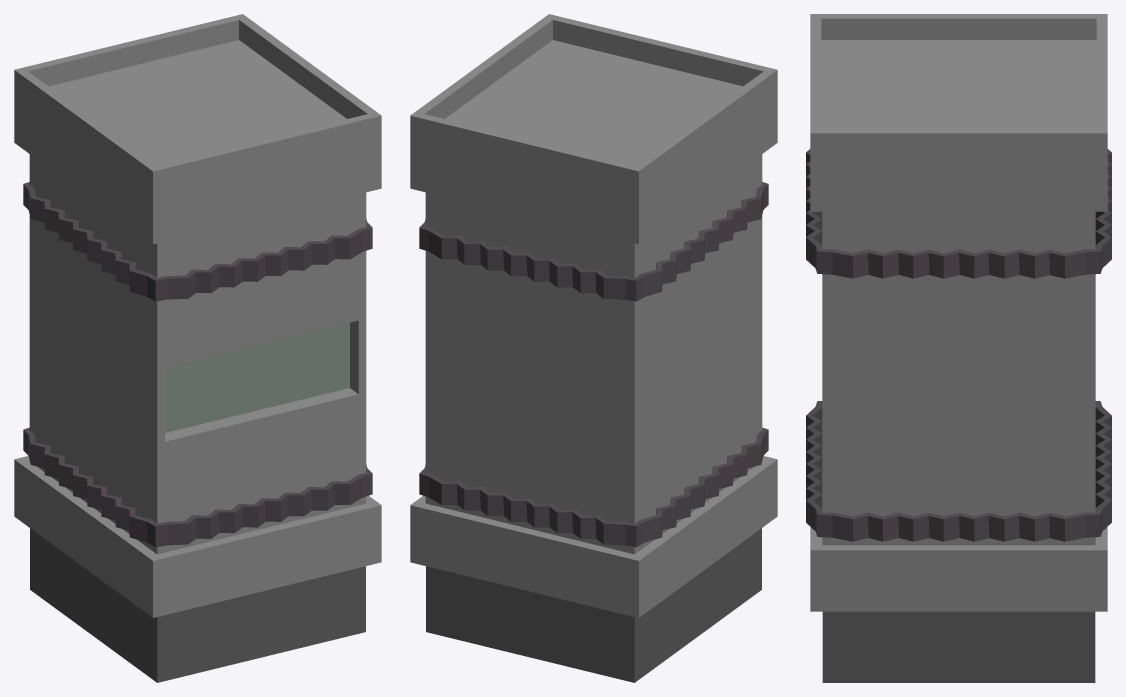
Rendered from SM_pillar_special_01.fbx.
3 renders of one model, left to right at view 1: azimuth 30°, elevation 25°; view 2: azimuth 150°, elevation 25°; view 3: azimuth 270°, elevation 25°, orthographic. The views are drawn at different scales.
Parts seen in each view (by area): view 1: pillar_special_01; view 2: pillar_special_01; view 3: pillar_special_01.
Boxes of the visible parts, x1,y1,x2,y2 form: pillar_special_01: (14,14,381,682); pillar_special_01: (410,14,777,682); pillar_special_01: (806,14,1111,682).
Bounding box in the file's own units: 157 × 331 × 165.
